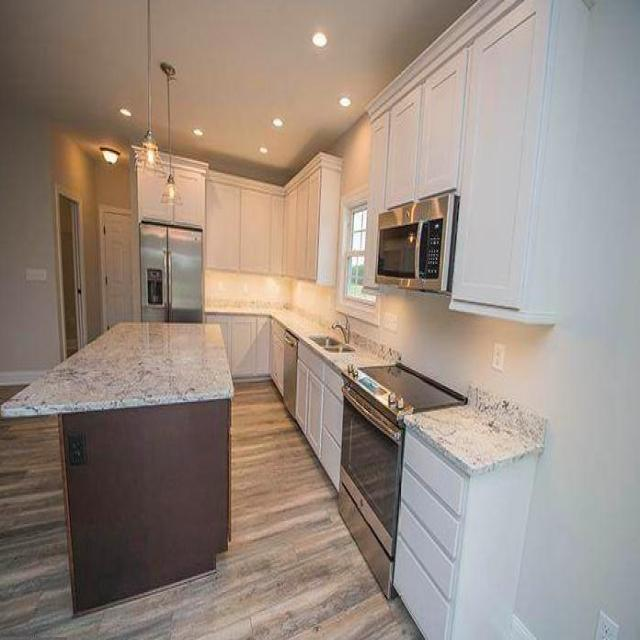dishwasher: (282, 327, 296, 415)
